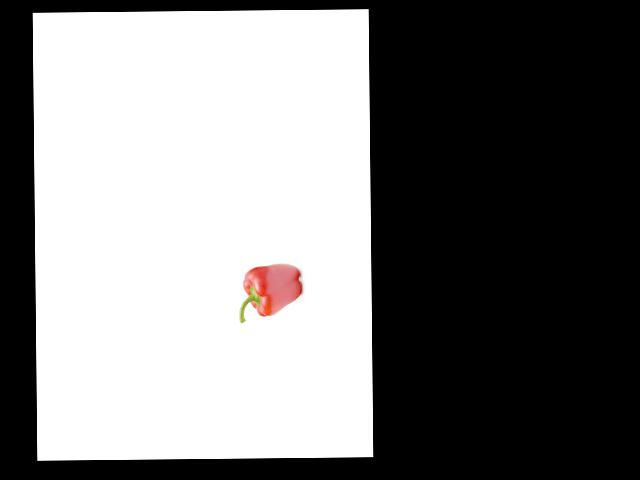bell_pepper: (234, 260, 307, 324)
